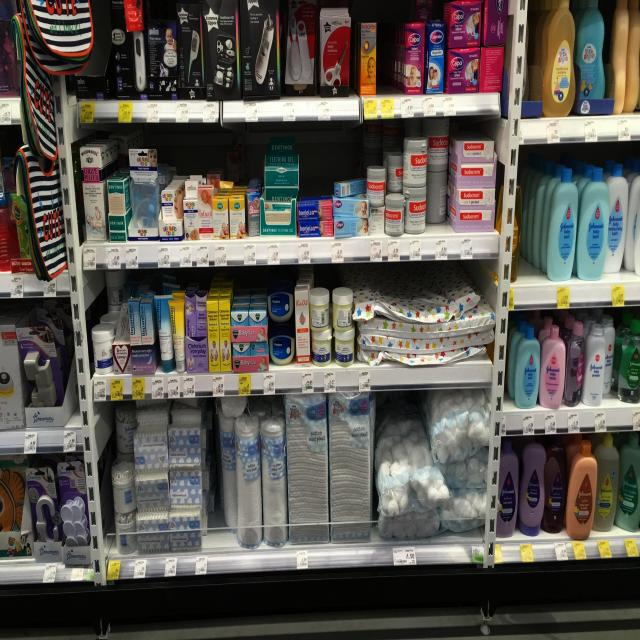empty_space: (522, 171, 542, 281), (380, 13, 395, 86)
